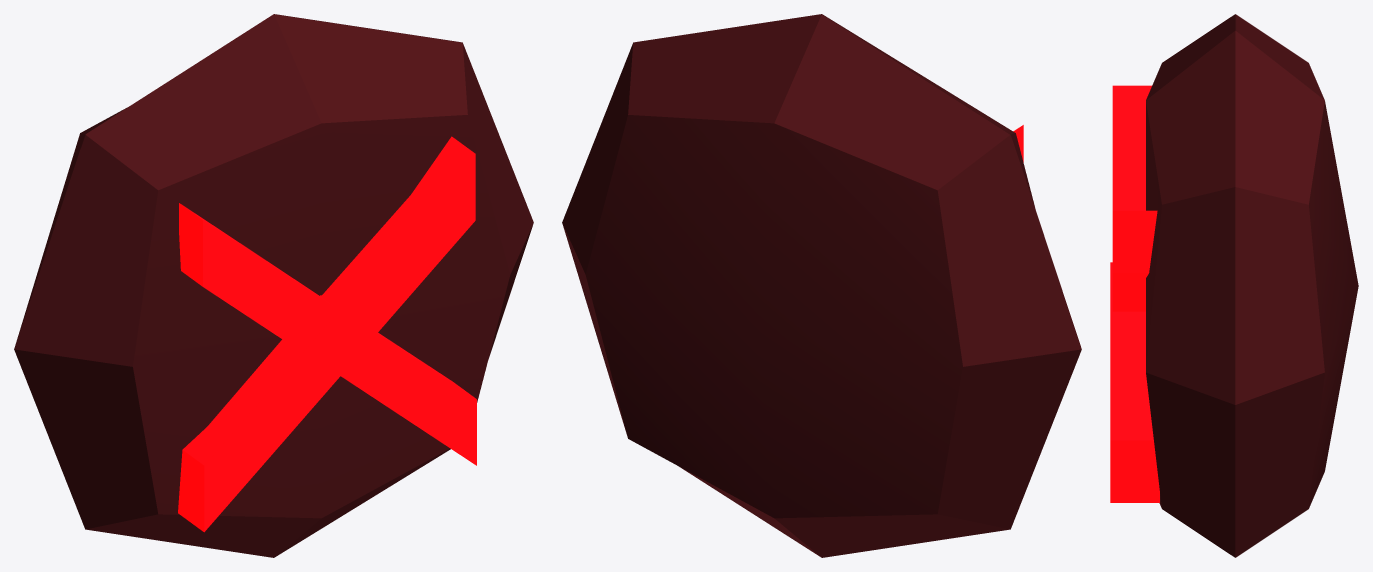
The model's file is orbX.fbx.
3 renders of one model, left to right at view 1: azimuth 30°, elevation 25°; view 2: azimuth 150°, elevation 25°; view 3: azimuth 270°, elevation 25°, orthographic. The views are drawn at different scales.
Visible parts, largest first — view 1: Cube.005, Cube.007, Cube.008; view 2: Cube.005; view 3: Cube.005, Cube.008, Cube.007.
Part boxes in pixels (<box>): Cube.005: <box>14,14,533,557</box>; Cube.007: <box>178,295,476,532</box>; Cube.008: <box>179,136,475,351</box>; Cube.005: <box>562,14,1081,557</box>; Cube.005: <box>1146,14,1358,557</box>; Cube.008: <box>1112,85,1157,311</box>; Cube.007: <box>1110,262,1159,502</box>.
Bounding box in the file's own units: 168 × 168 × 73.98.
3 materials, 3 textured.
